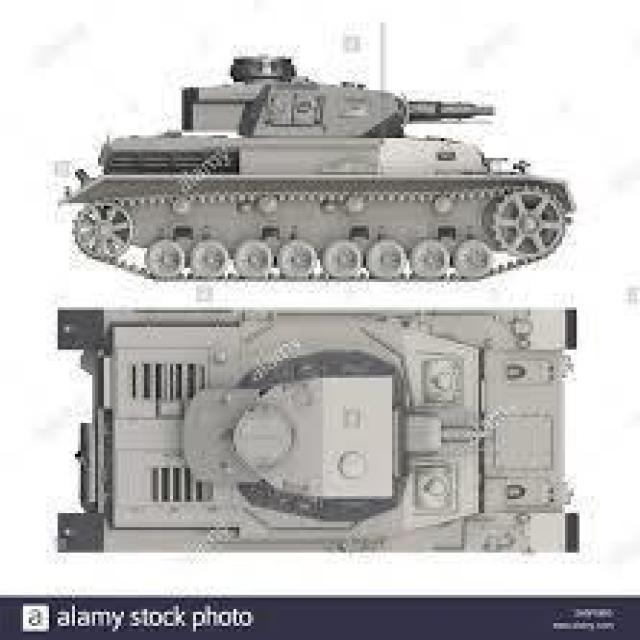Tanks: (53, 299, 587, 569), (55, 49, 579, 292)
